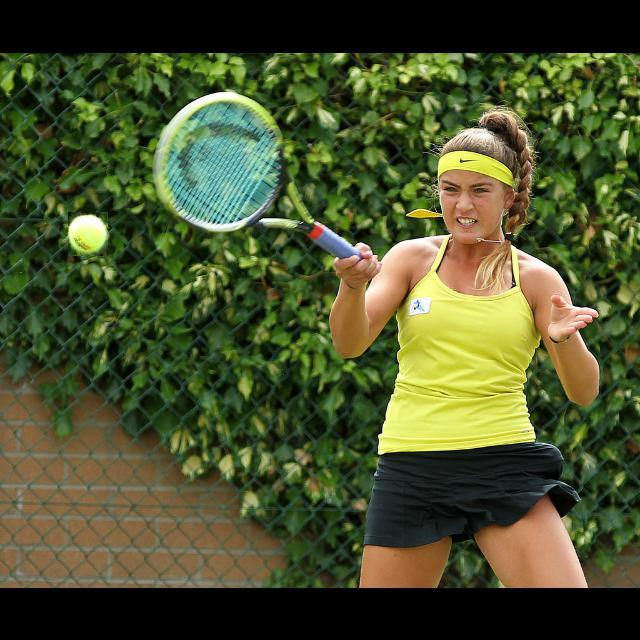tennis ball: (68, 212, 108, 256)
